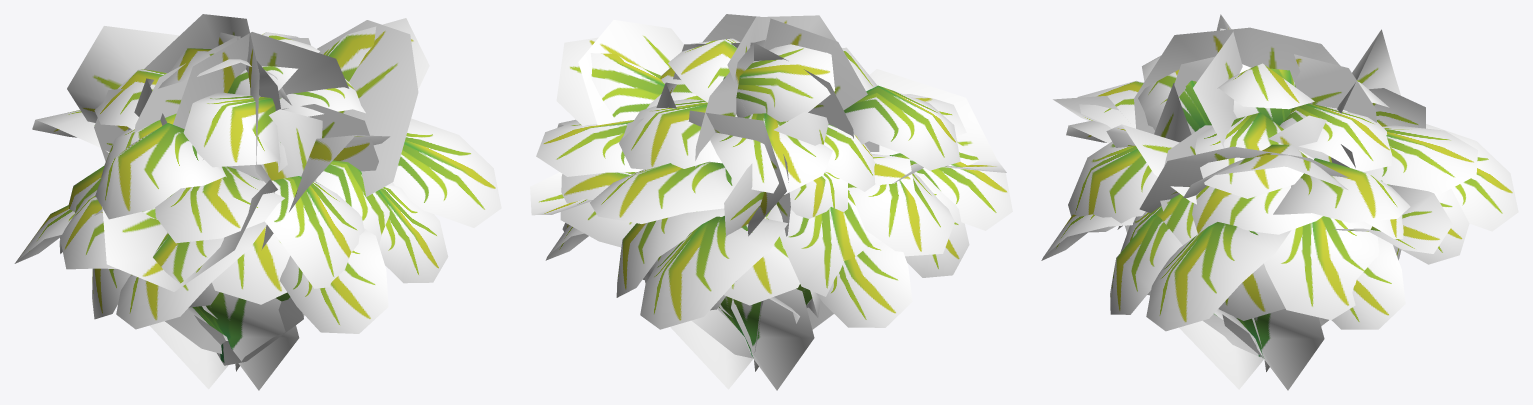
File: Bush_02.FBX
The picture shows the model from 3 angles, left to right: view 1: azimuth 30°, elevation 25°; view 2: azimuth 150°, elevation 25°; view 3: azimuth 270°, elevation 25°; orthographic projection. The views are drawn at different scales.
Parts seen in each view (by area): view 1: Bush_02; view 2: Bush_02; view 3: Bush_02.
Boxes of the visible parts, x1=… form: Bush_02: x1=14, y1=14, x2=501, y2=390; Bush_02: x1=530, y1=14, x2=1012, y2=390; Bush_02: x1=1041, y1=14, x2=1518, y2=390.
Size of the model in its own units: 131 by 109 by 131.
1 material, 1 textured.
